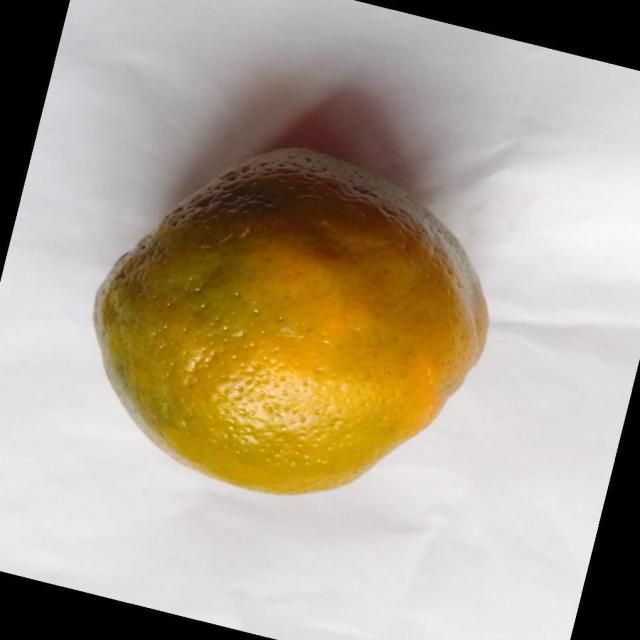fresh orange: (92, 145, 490, 496)
